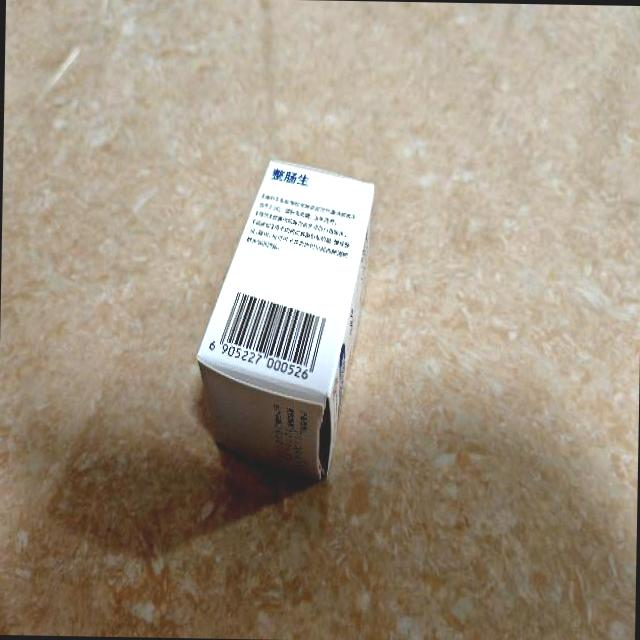box: (193, 158, 375, 481)
